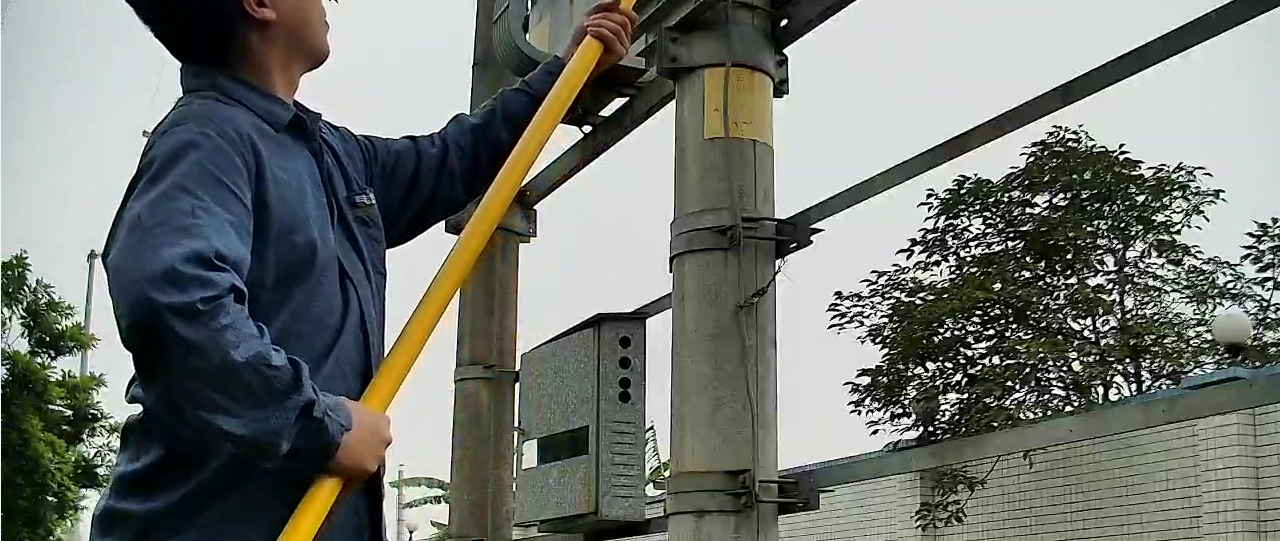未带安全帽的工作人员: (87, 0, 641, 540)
